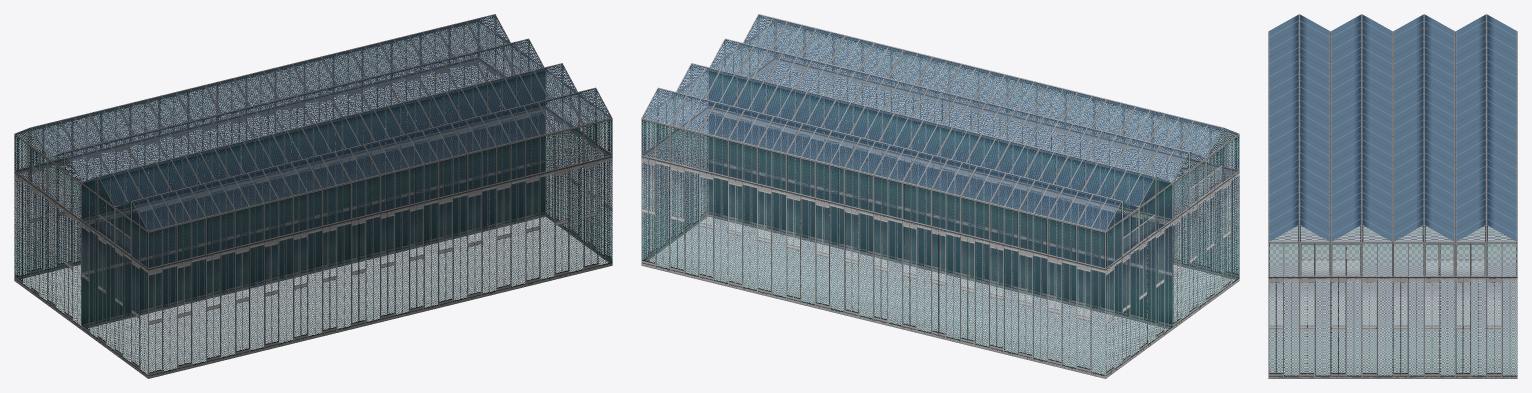
File: kas_mod2_2a.fbx
3 renders of one model, left to right at view 1: azimuth 30°, elevation 25°; view 2: azimuth 150°, elevation 25°; view 3: azimuth 270°, elevation 25°, orthographic. The views are drawn at different scales.
Visible parts, largest first — view 1: kas_mod2_2a; view 2: kas_mod2_2a; view 3: kas_mod2_2a.
Boxes of the visible parts, x1=… form: kas_mod2_2a: x1=14, y1=14, x2=612, y2=378; kas_mod2_2a: x1=641, y1=14, x2=1239, y2=378; kas_mod2_2a: x1=1268, y1=14, x2=1517, y2=378.
Bounding box in the file's own units: 4000 × 1364 × 2000.
